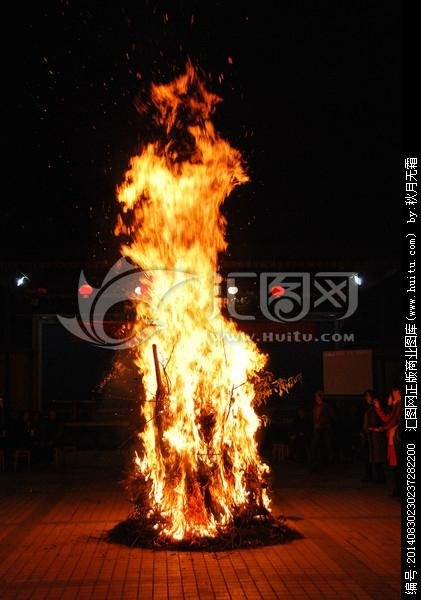fire: (107, 40, 283, 538)
